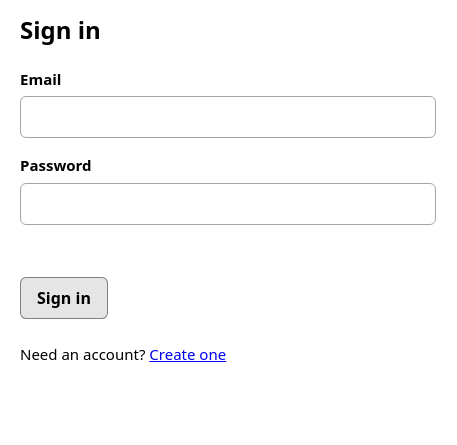
Test: LoginPage › shows a generic message on invalid credentials, clears the password, keeps the email
Type "user@example.com" into the field labelled "Email" at (228, 117), box [20,96,436,138]
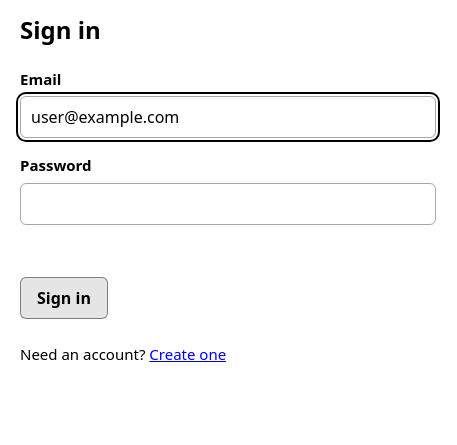
Type "wrong-password" into the password field labelled "Password" at (228, 204), box [20,183,436,225]
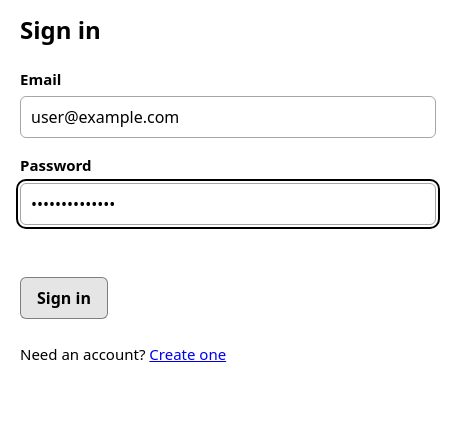
Click the button "Sign in" at (64, 298), box [20,277,108,319]
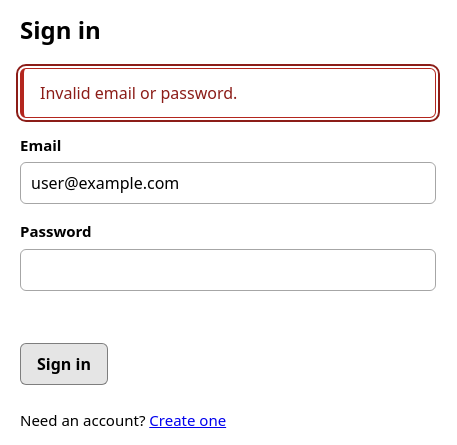
Expected: the message "Invalid email or password." is shown, [20,68,436,118]
Expected: the password field labelled "Password" is empty, [20,249,436,291]
